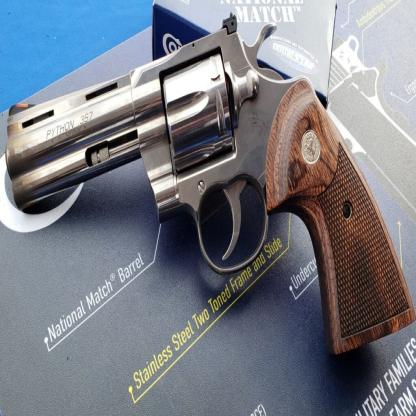handgun: (7, 9, 416, 358)
